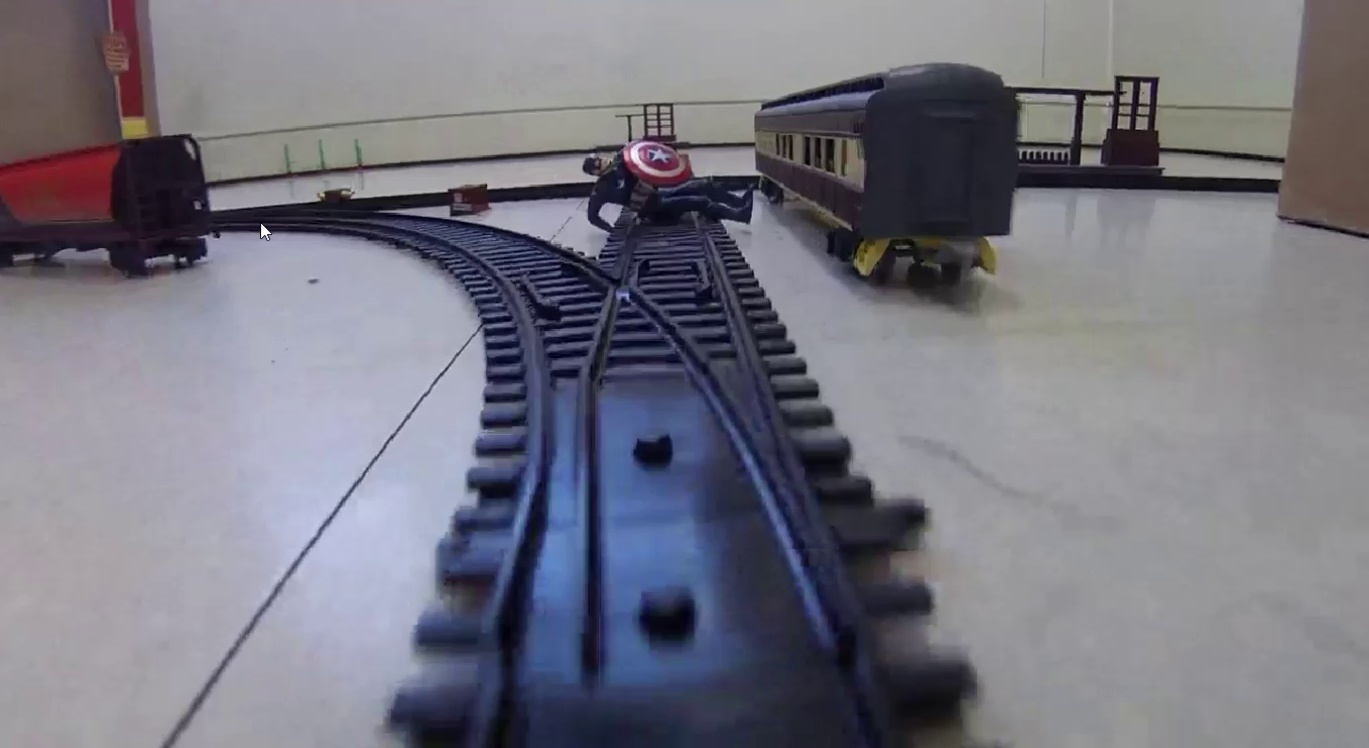box: (452, 187, 486, 217)
people: (581, 143, 753, 223)
